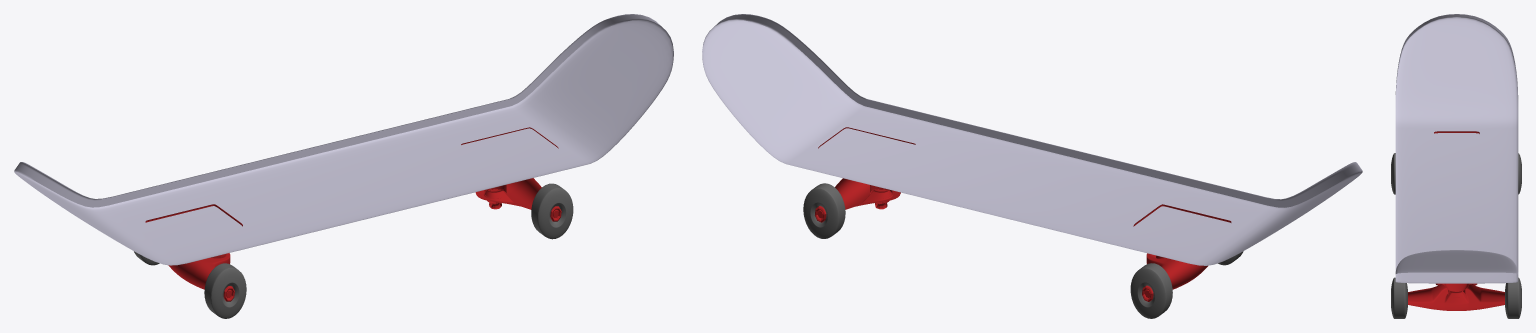
The picture shows the model from 3 angles, left to right: view 1: azimuth 30°, elevation 25°; view 2: azimuth 150°, elevation 25°; view 3: azimuth 270°, elevation 25°; orthographic projection. The views are drawn at different scales.
Visible parts, largest first — view 1: 滑板, 轮子, group31_group30_pPlane8, group31_group30_polySurface59; view 2: 滑板, 轮子, group31_group30_pPlane8, group31_group30_polySurface59; view 3: 滑板, group31_group30_pPlane8, 轮子.
Part boxes in pixels (left/top/right/bottom): 滑板: left=14, top=14, right=673, bottom=265; 轮子: left=134, top=183, right=573, bottom=318; group31_group30_pPlane8: left=461, top=127, right=561, bottom=221; group31_group30_polySurface59: left=145, top=204, right=242, bottom=301; 滑板: left=702, top=14, right=1362, bottom=265; 轮子: left=803, top=183, right=1243, bottom=318; group31_group30_pPlane8: left=815, top=127, right=915, bottom=222; group31_group30_polySurface59: left=1133, top=204, right=1231, bottom=301; 滑板: left=1395, top=14, right=1518, bottom=283; group31_group30_pPlane8: left=1408, top=283, right=1504, bottom=310; 轮子: left=1391, top=153, right=1521, bottom=318.
Size of the model in its own units: 0.7511 by 0.175 by 0.1718.
